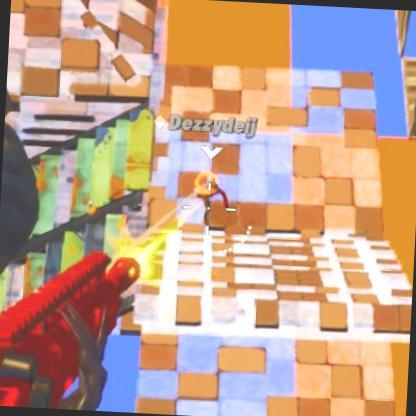person: (190, 174, 237, 233)
